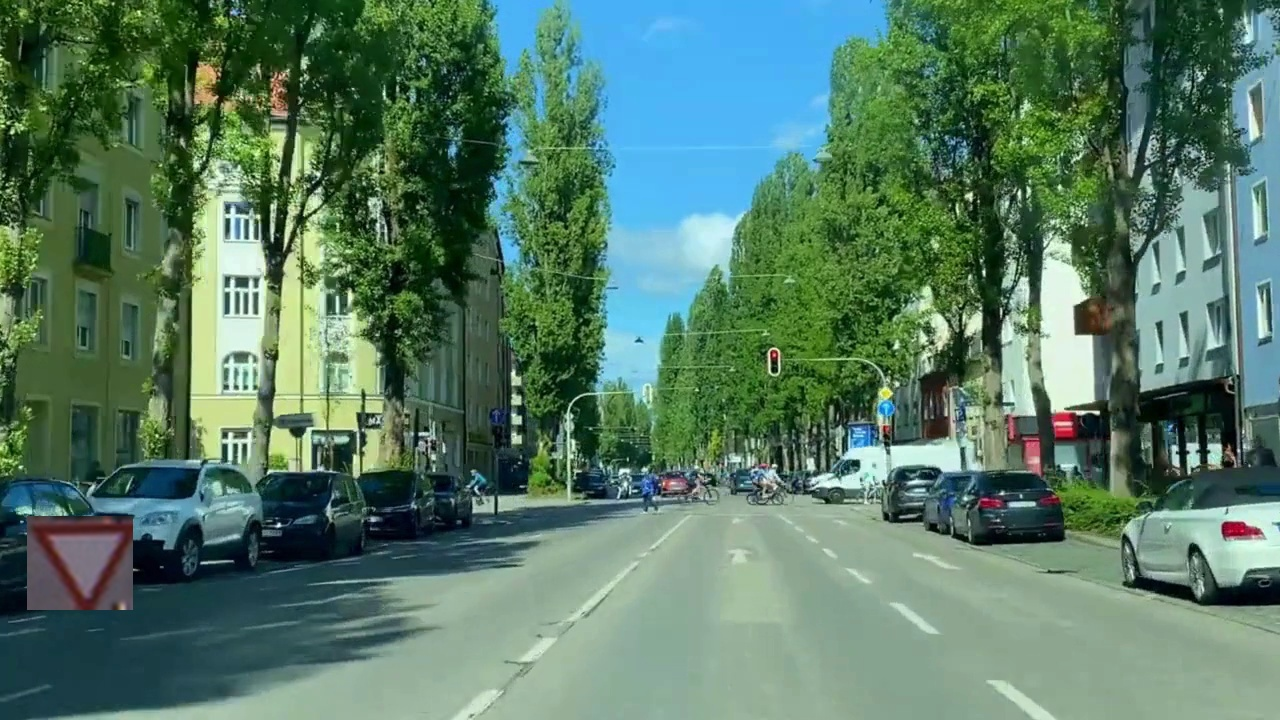Yield: (27, 516, 133, 610)
